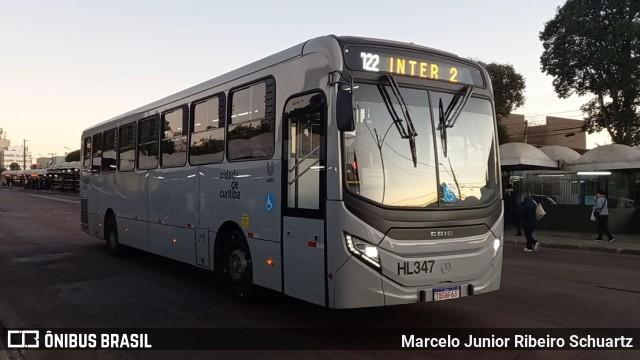INTER2: (386, 52, 462, 88)
